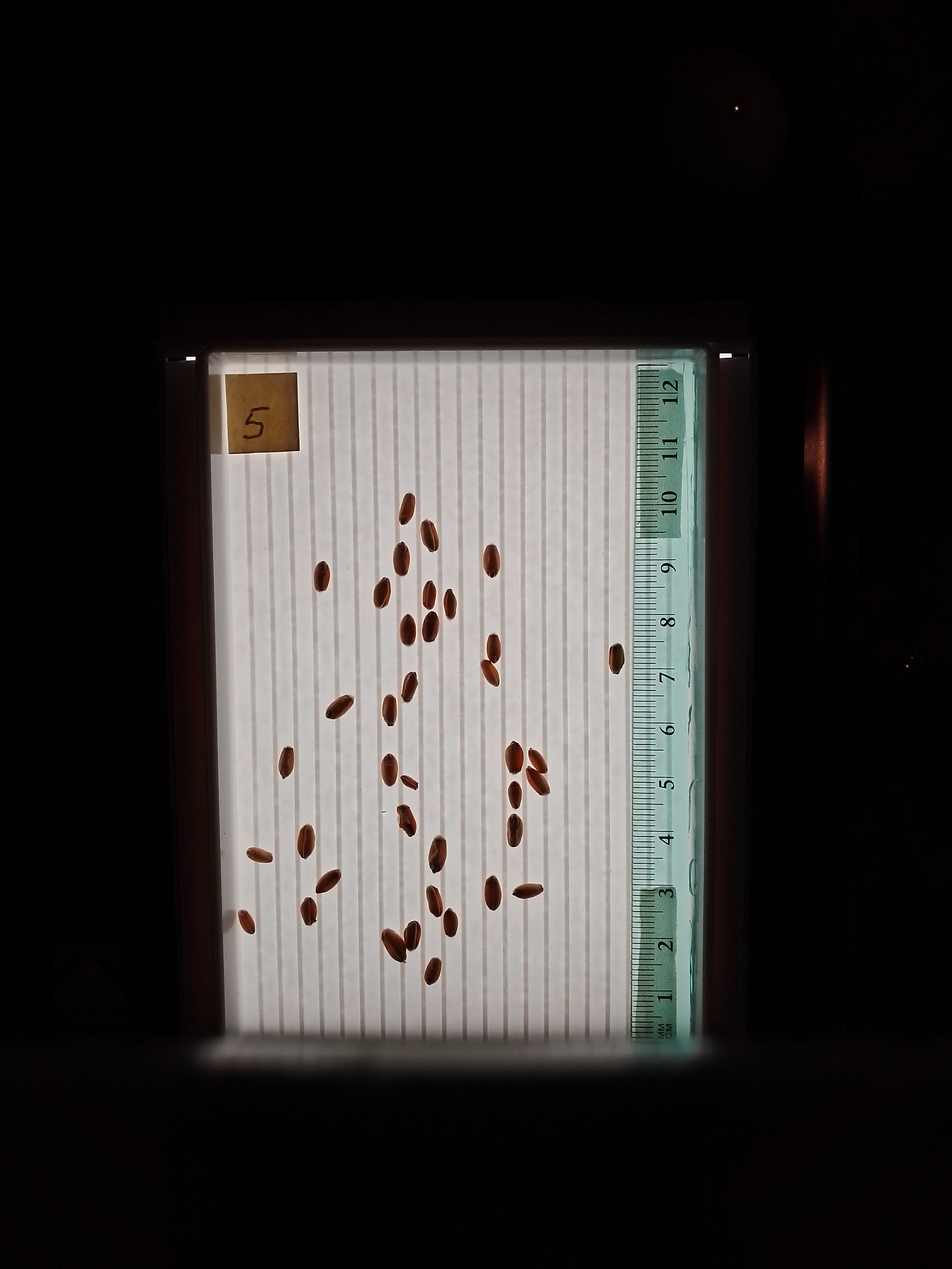seed mask: (382, 930, 407, 962), (326, 695, 354, 719), (527, 767, 550, 795), (484, 876, 502, 911), (429, 836, 446, 872), (316, 869, 341, 893), (421, 520, 439, 552), (298, 825, 315, 858), (506, 742, 524, 773), (398, 805, 416, 836), (483, 545, 500, 577), (507, 814, 523, 847), (426, 886, 443, 917), (381, 755, 398, 786), (514, 882, 543, 900), (278, 746, 294, 778), (608, 644, 625, 674), (374, 578, 391, 608), (313, 562, 330, 592), (394, 544, 410, 575), (399, 493, 415, 524), (404, 921, 421, 950), (422, 613, 439, 642), (400, 615, 416, 645), (528, 749, 547, 774), (382, 695, 397, 726), (402, 674, 417, 703), (486, 634, 501, 663), (481, 661, 499, 685), (425, 958, 441, 984), (301, 899, 317, 925), (443, 910, 458, 937), (238, 911, 255, 934), (247, 848, 272, 863), (444, 590, 457, 618), (423, 582, 436, 609), (508, 783, 521, 808), (401, 774, 418, 790)
